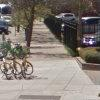Bicycle: (0, 47, 34, 81)
